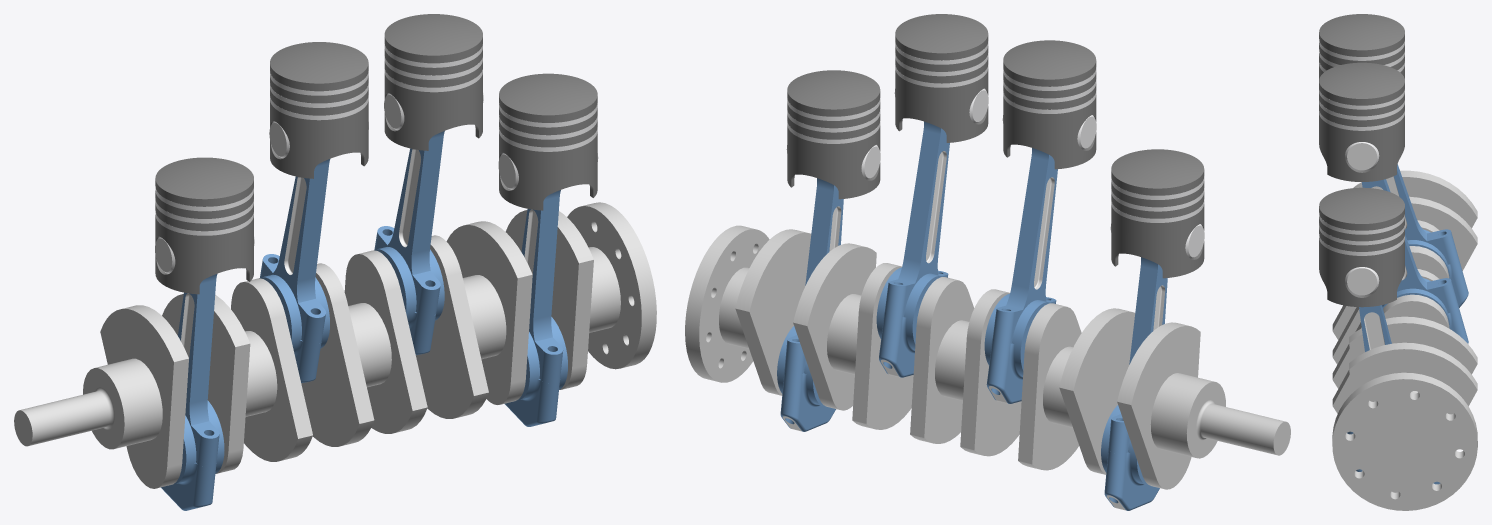
File: model-B9nvV8iX.glb
The picture shows the model from 3 angles, left to right: view 1: azimuth 30°, elevation 25°; view 2: azimuth 150°, elevation 25°; view 3: azimuth 270°, elevation 25°; orthographic projection. The views are drawn at different scales.
Visible parts, largest first — view 1: 03_crank-2, 01_piston-1, 01_piston-2, 01_piston-3, 01_piston-4, 04_con_rod-4, 04_con_rod-3, 04_con_rod-1, 04_con_rod-2, 05_con_rod_cap-2, 05_con_rod_cap-1, 05_con_rod_cap-4 (+1 smaller); view 2: 03_crank-2, 01_piston-4, 01_piston-1, 01_piston-3, 01_piston-2, 04_con_rod-3, 04_con_rod-4, 04_con_rod-1, 04_con_rod-2, 05_con_rod_cap-2, 05_con_rod_cap-1, 05_con_rod_cap-4 (+1 smaller); view 3: 03_crank-2, 01_piston-2, 01_piston-4, 01_piston-3, 04_con_rod-4, 04_con_rod-3, 04_con_rod-2, 06_piston_pin-2, 06_piston_pin-4, 05_con_rod_cap-3, 02-piston_ring-12, 02-piston_ring-6 (+6 smaller).
Part boxes in pixels (x1,y1,x2,y2): 03_crank-2: [14, 202, 656, 488]; 01_piston-1: [155, 157, 253, 294]; 01_piston-2: [499, 73, 597, 210]; 01_piston-3: [270, 42, 368, 178]; 01_piston-4: [384, 14, 482, 150]; 04_con_rod-4: [374, 131, 444, 317]; 04_con_rod-3: [259, 159, 330, 345]; 04_con_rod-1: [178, 274, 224, 467]; 04_con_rod-2: [521, 190, 567, 383]; 05_con_rod_cap-2: [504, 372, 567, 426]; 05_con_rod_cap-1: [161, 456, 223, 510]; 05_con_rod_cap-4: [406, 305, 443, 355]; 03_crank-2: [685, 225, 1290, 489]; 01_piston-4: [895, 14, 988, 142]; 01_piston-1: [1111, 149, 1204, 278]; 01_piston-3: [1003, 40, 1096, 169]; 01_piston-2: [787, 70, 880, 199]; 04_con_rod-3: [985, 148, 1057, 345]; 04_con_rod-4: [877, 121, 949, 319]; 04_con_rod-1: [1101, 257, 1167, 454]; 04_con_rod-2: [777, 178, 843, 374]; 05_con_rod_cap-2: [777, 367, 835, 431]; 05_con_rod_cap-1: [1101, 446, 1159, 510]; 05_con_rod_cap-4: [876, 310, 917, 377]; 03_crank-2: [1332, 170, 1477, 510]; 01_piston-2: [1319, 187, 1404, 307]; 01_piston-4: [1319, 62, 1404, 181]; 01_piston-3: [1319, 14, 1404, 90]; 04_con_rod-4: [1362, 179, 1458, 317]; 04_con_rod-3: [1386, 164, 1458, 268]; 04_con_rod-2: [1347, 305, 1391, 434]; 06_piston_pin-2: [1345, 267, 1379, 296]; 06_piston_pin-4: [1345, 142, 1379, 171]; 05_con_rod_cap-3: [1447, 258, 1468, 307]; 02-piston_ring-12: [1319, 89, 1404, 109]; 02-piston_ring-6: [1319, 214, 1404, 234].
Bounding box in the file's own units: 0.589 × 0.4119 × 0.1569.
